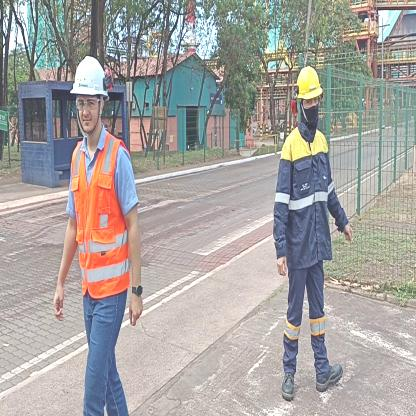C_eletrica: (276, 126, 334, 264)
Capacete: (69, 51, 109, 100), (295, 64, 322, 99)
colete: (70, 133, 132, 295)
